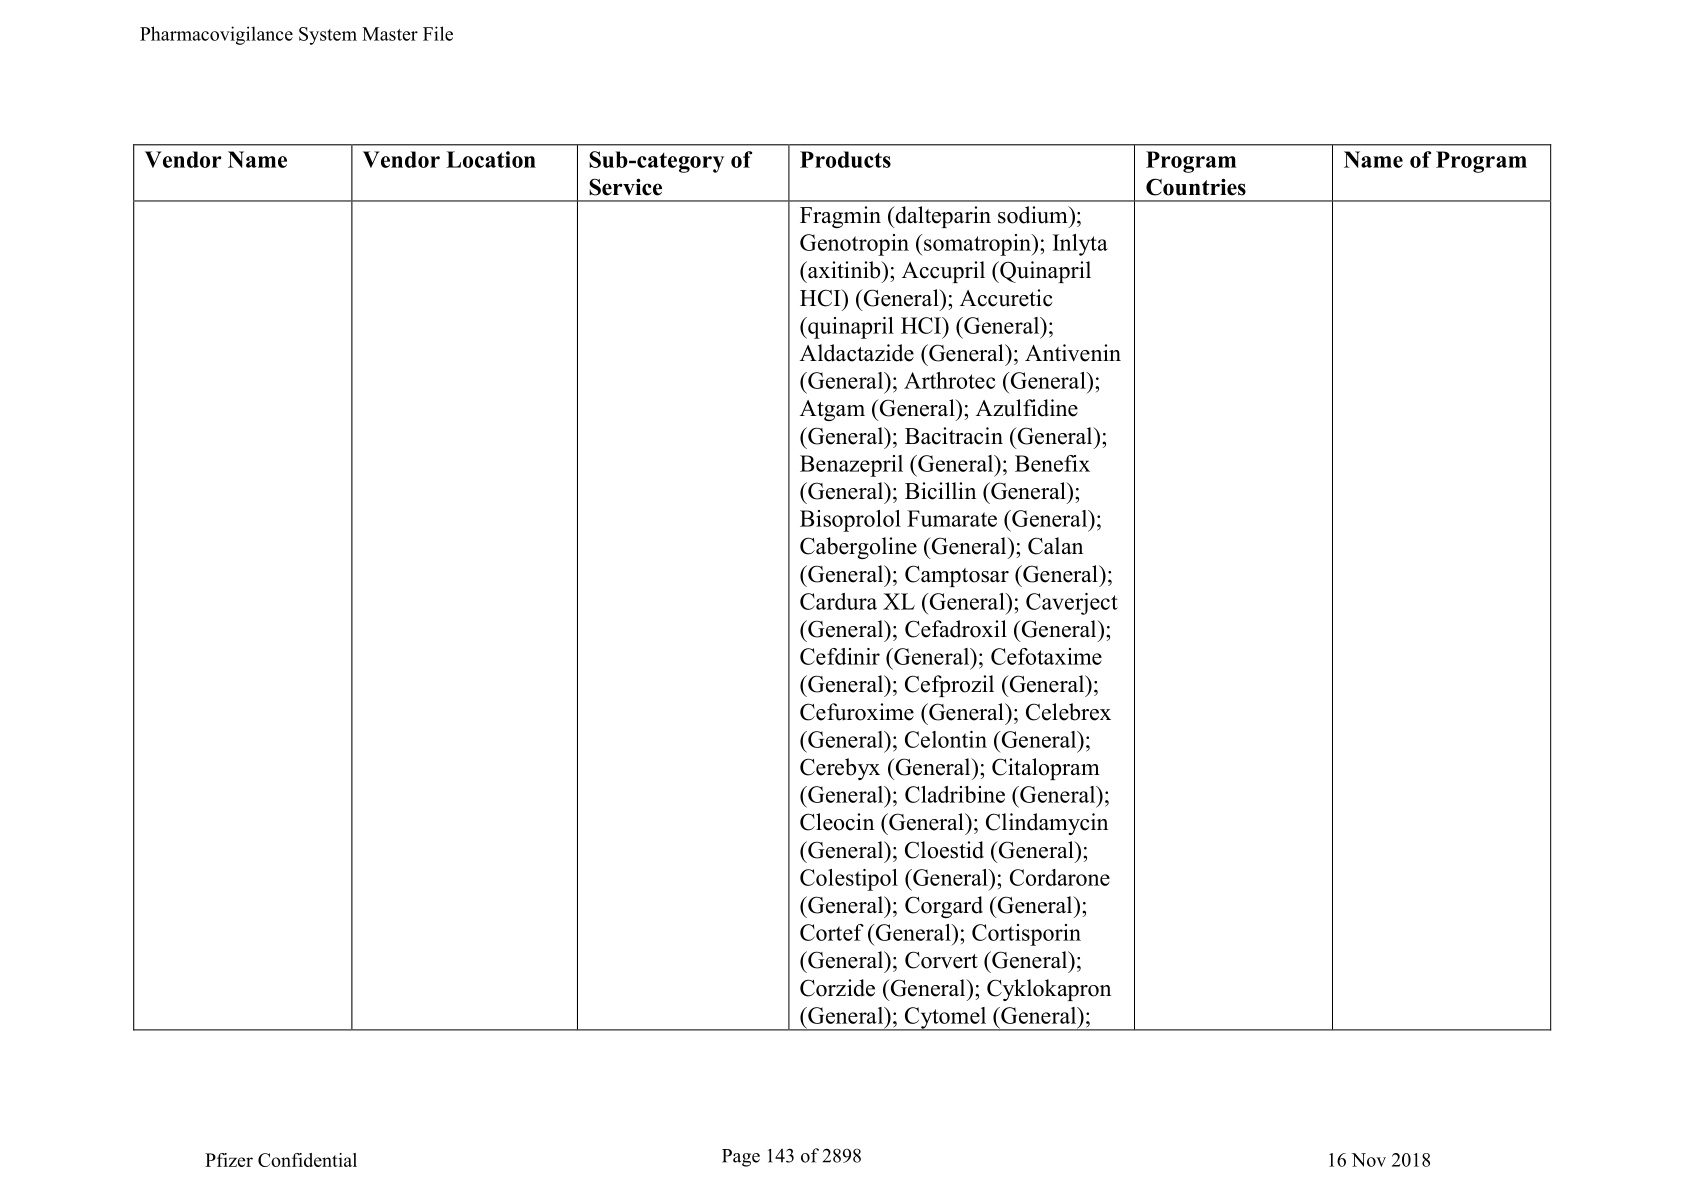full_lined: (131, 143, 1552, 1032)
